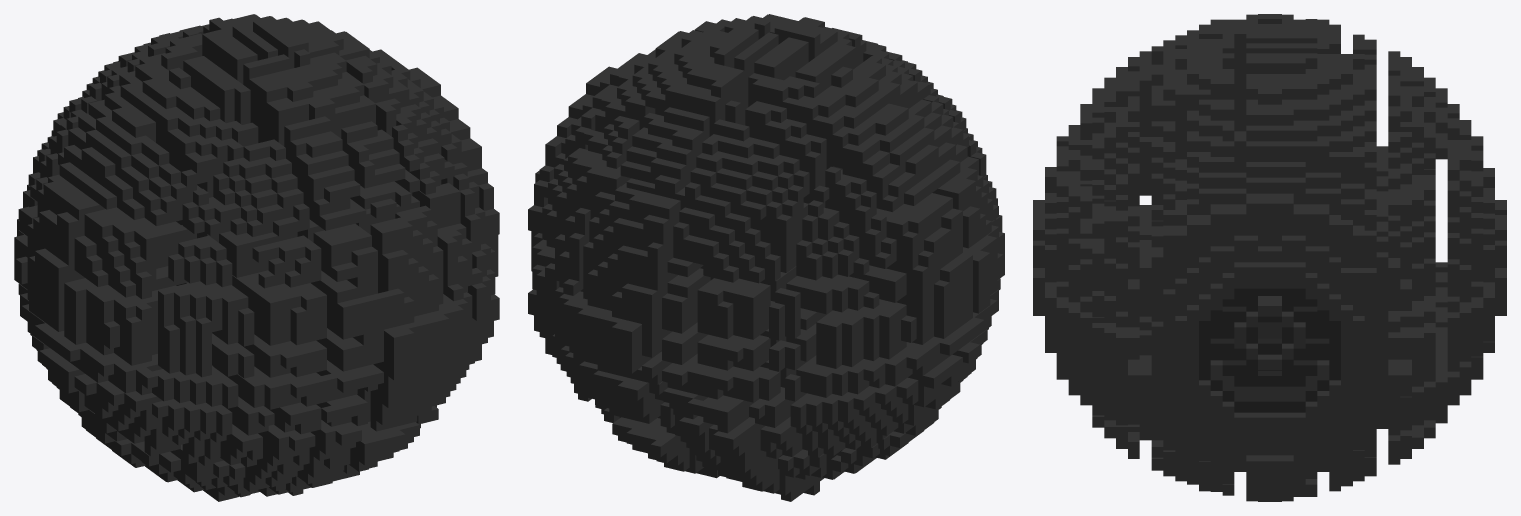
The model's file is звезда смерти.obj.
3 views of the same model, side by side, from view 1: azimuth 30°, elevation 25°; view 2: azimuth 150°, elevation 25°; view 3: azimuth 270°, elevation 25° (orthographic). The views are drawn at different scales.
Size of the model in its own units: 3.9 by 4 by 4.
Materials: 1 (1 with a texture image).
